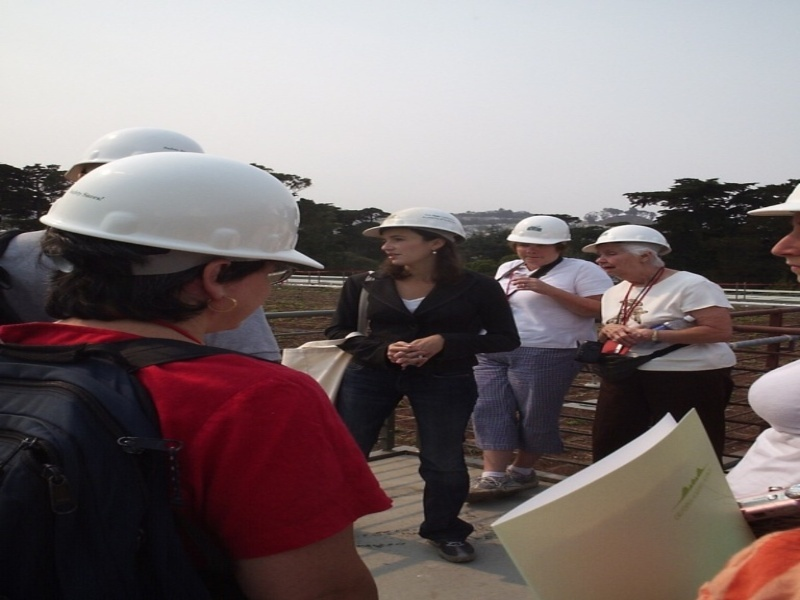baret: (41, 150, 326, 274), (361, 208, 468, 249), (581, 222, 676, 263), (507, 214, 572, 246)
